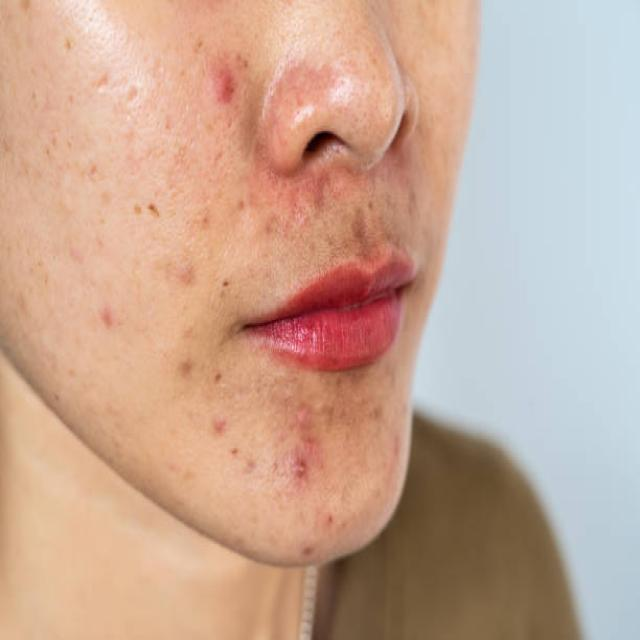Dry-Skin: (228, 284, 368, 556), (326, 64, 454, 295), (179, 37, 268, 281), (131, 268, 206, 456), (46, 98, 104, 335), (21, 41, 77, 140), (121, 76, 138, 281)
